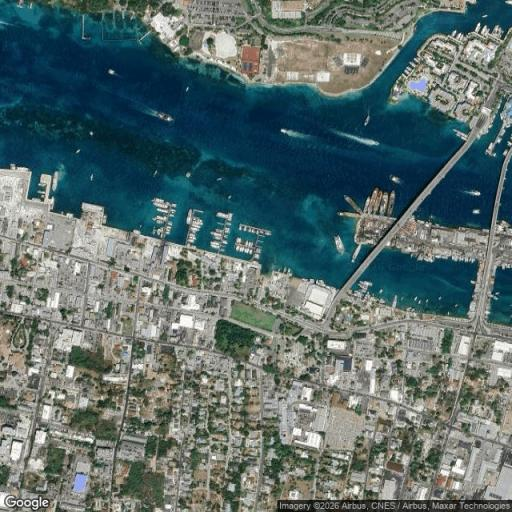ship: (367, 188, 378, 215), (373, 190, 383, 216), (386, 190, 395, 216), (379, 192, 389, 215), (335, 237, 345, 254), (52, 171, 60, 191), (363, 196, 371, 213), (17, 166, 31, 171)
